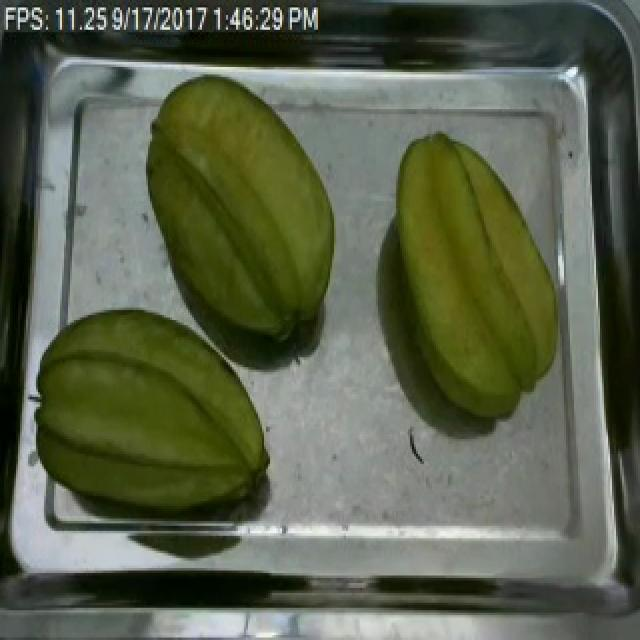fruit: (136, 72, 348, 360), (24, 290, 282, 526), (384, 121, 572, 436)
